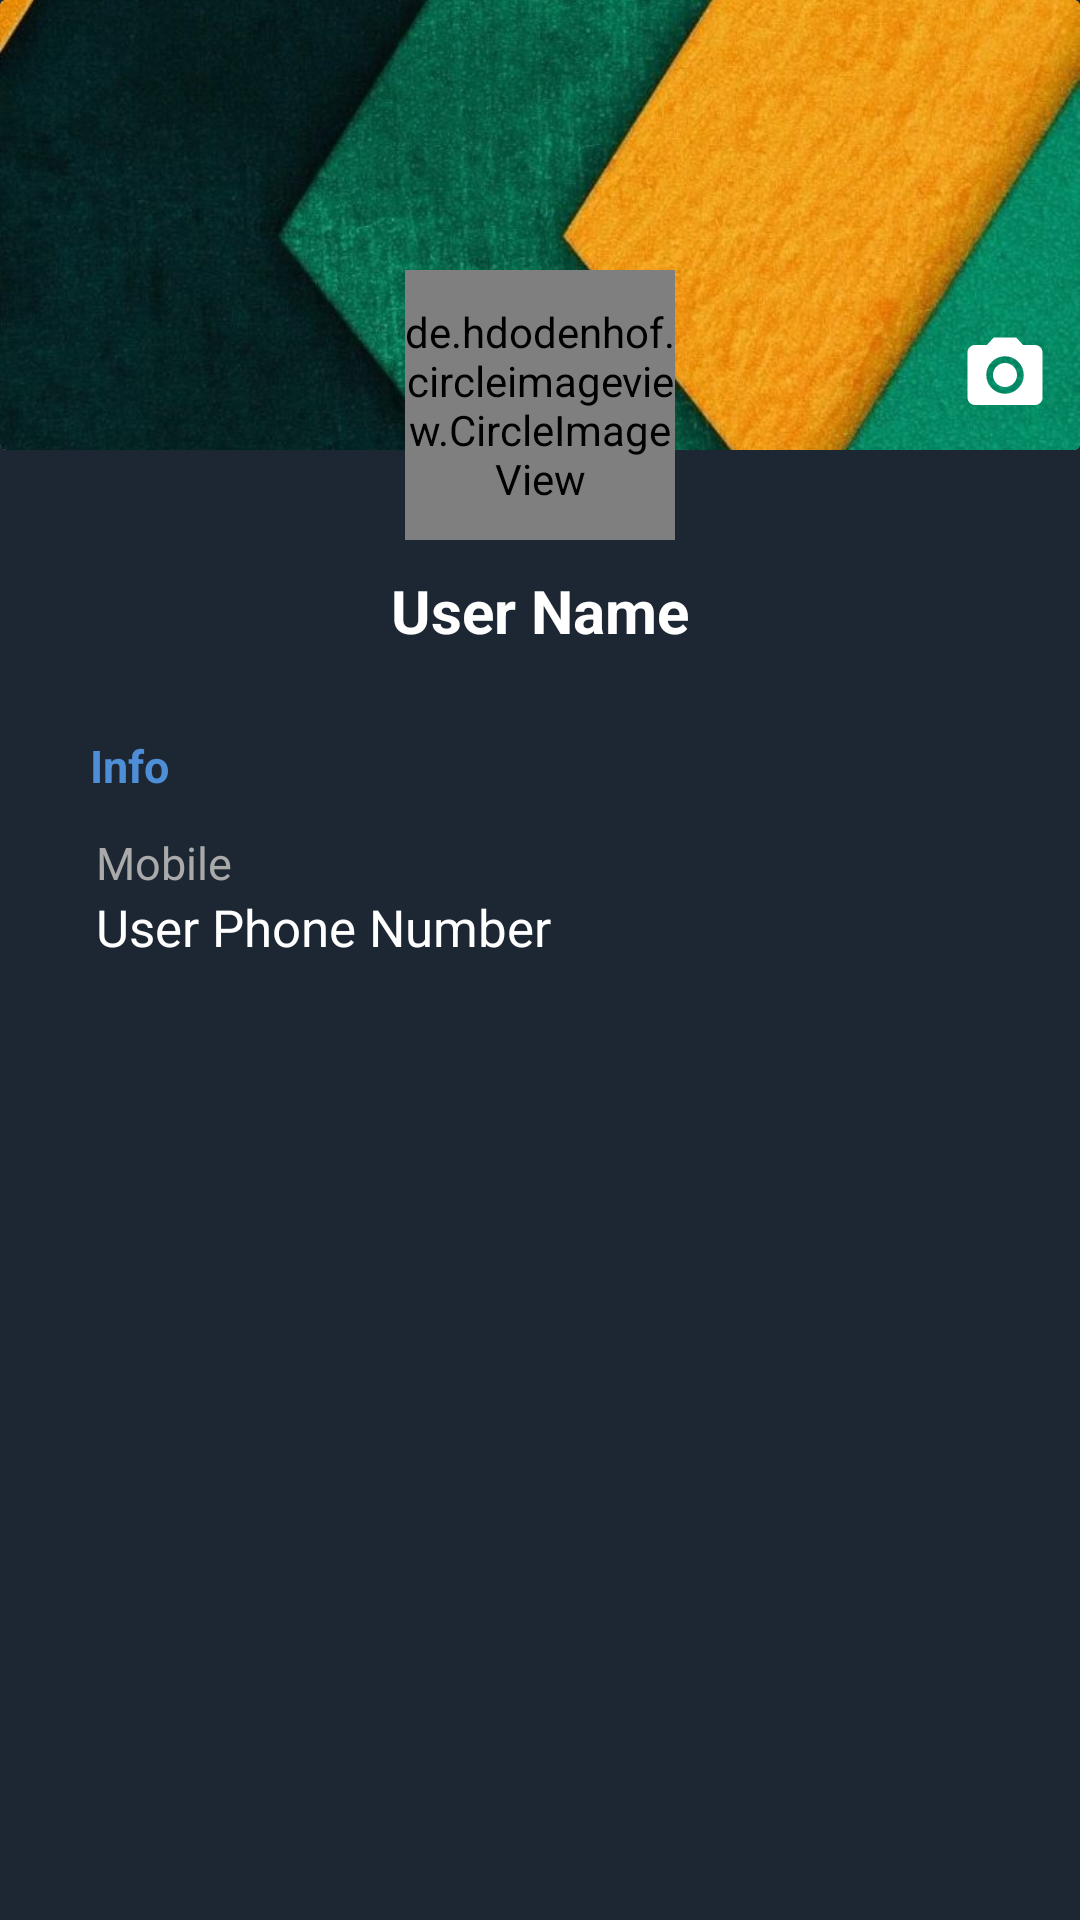

Locate icon controls on the screen. Image size 1080px x 1920px, boxes as (x1, y1, x2, y2).
camera: (942, 337, 1043, 405)
